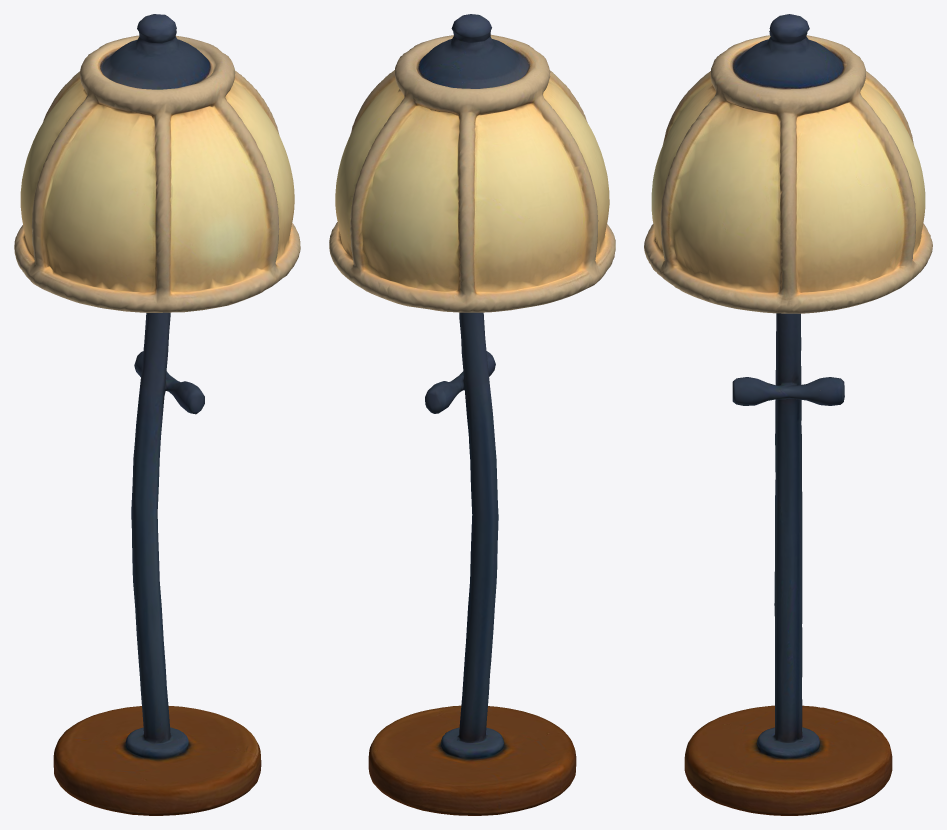
File: lamp.glb
3 views of the same model, side by side, from view 1: azimuth 30°, elevation 25°; view 2: azimuth 150°, elevation 25°; view 3: azimuth 270°, elevation 25° (orthographic).
Parts seen in each view (by area): view 1: tripo_node_9780c450-3814-4e2f-9f45-0cb7b2d12d0e; view 2: tripo_node_9780c450-3814-4e2f-9f45-0cb7b2d12d0e; view 3: tripo_node_9780c450-3814-4e2f-9f45-0cb7b2d12d0e.
Boxes of the visible parts, x1=… form: tripo_node_9780c450-3814-4e2f-9f45-0cb7b2d12d0e: x1=14, y1=14, x2=300, y2=815; tripo_node_9780c450-3814-4e2f-9f45-0cb7b2d12d0e: x1=329, y1=14, x2=615, y2=815; tripo_node_9780c450-3814-4e2f-9f45-0cb7b2d12d0e: x1=644, y1=14, x2=932, y2=815.
Size of the model in its own units: 0.3392 by 0.9796 by 0.3385.
1 material, 1 textured.
